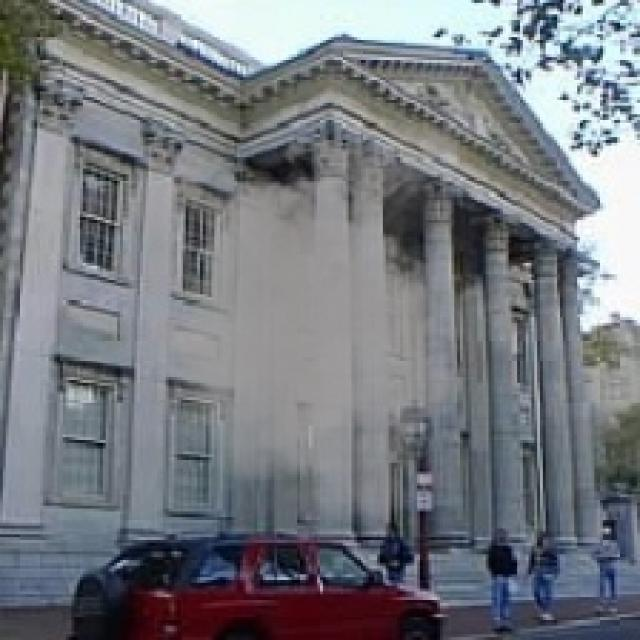Smoke: (103, 108, 523, 526)
